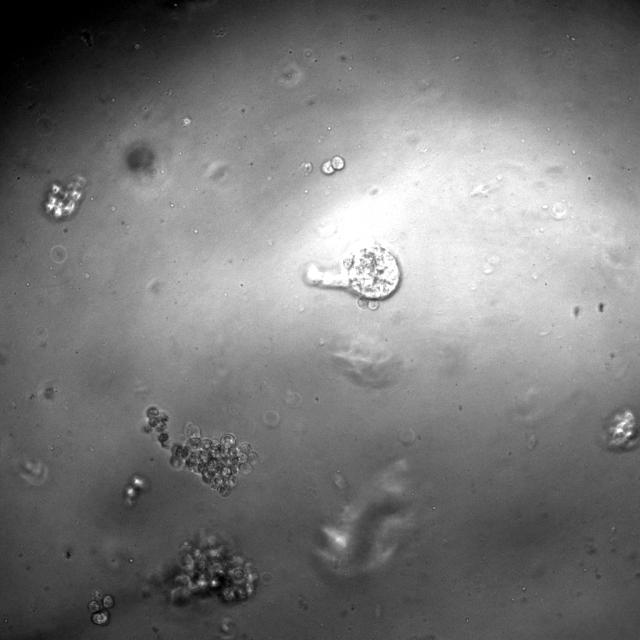organoid: (141, 405, 258, 497), (145, 534, 258, 606), (306, 240, 400, 299), (44, 175, 84, 220), (602, 406, 639, 452), (88, 590, 114, 625), (123, 475, 148, 505), (321, 155, 344, 175)
